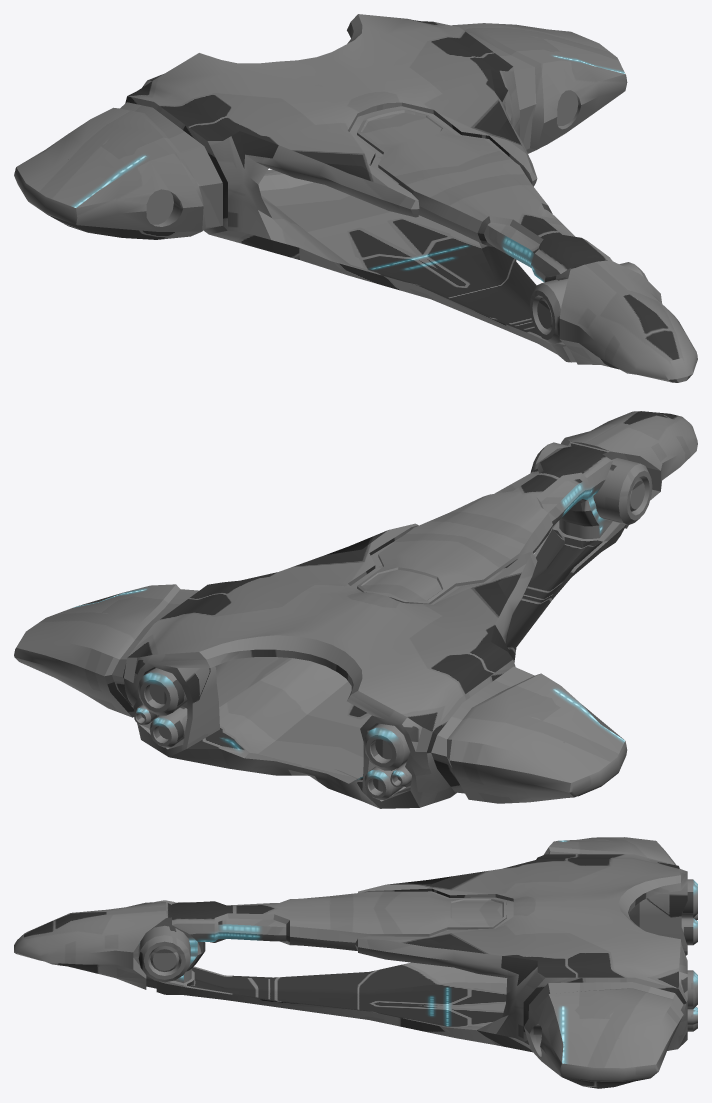
Rendered from Columbia.fbx.
3 renders of one model, top to bottom at view 1: azimuth 30°, elevation 25°; view 2: azimuth 150°, elevation 25°; view 3: azimuth 270°, elevation 25°, orthographic. The views are drawn at different scales.
Parts seen in each view (by area): view 1: OBS_LOD0; view 2: OBS_LOD0; view 3: OBS_LOD0.
Boxes of the visible parts, x1,y1,x2,y2 form: OBS_LOD0: (14, 14, 697, 382); OBS_LOD0: (14, 411, 697, 808); OBS_LOD0: (14, 837, 697, 1088).
Size of what is drawn, in the model's own units: 47878 by 10419 by 59595.
